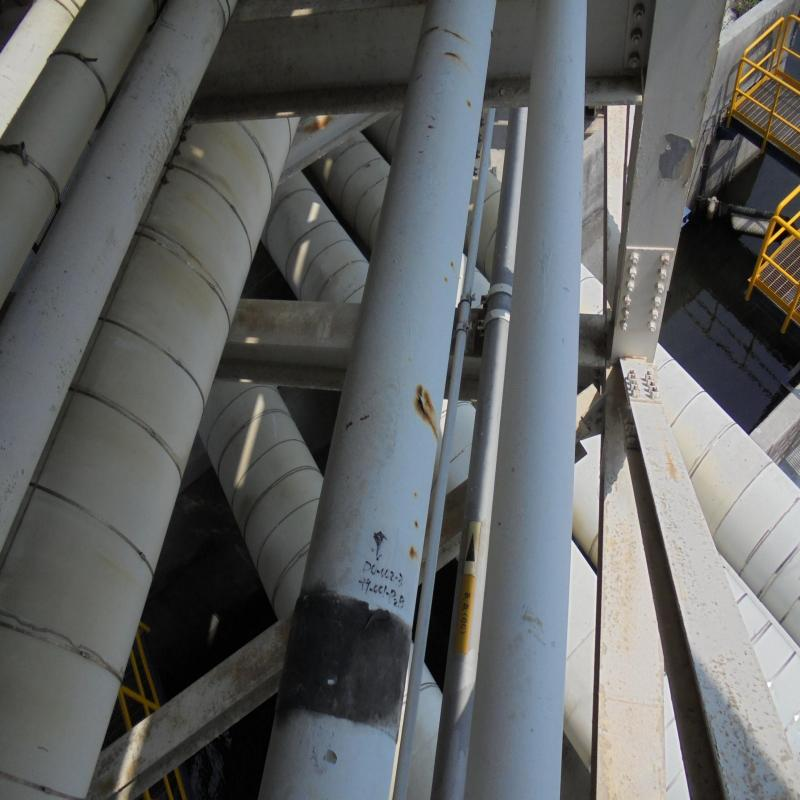Fracture: (423, 23, 469, 41), (442, 44, 468, 63)
corrosion: (410, 376, 443, 435)
